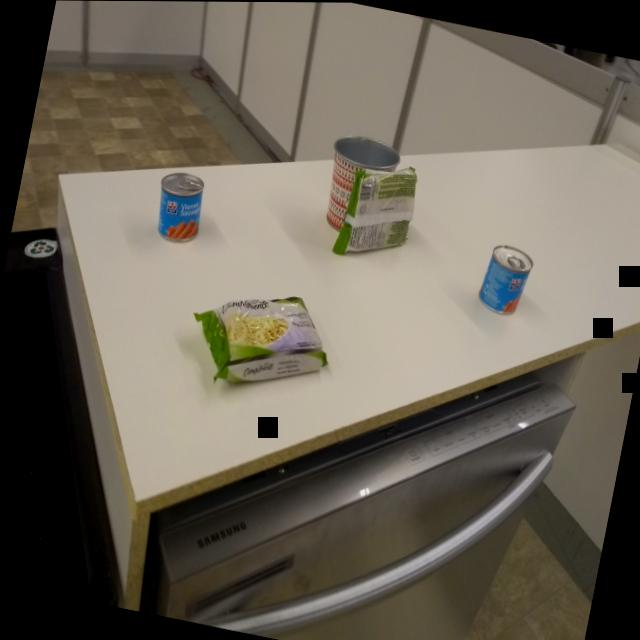noodles: (178, 268, 345, 407), (327, 149, 426, 272)
sausages: (149, 164, 214, 250), (474, 237, 538, 318)
